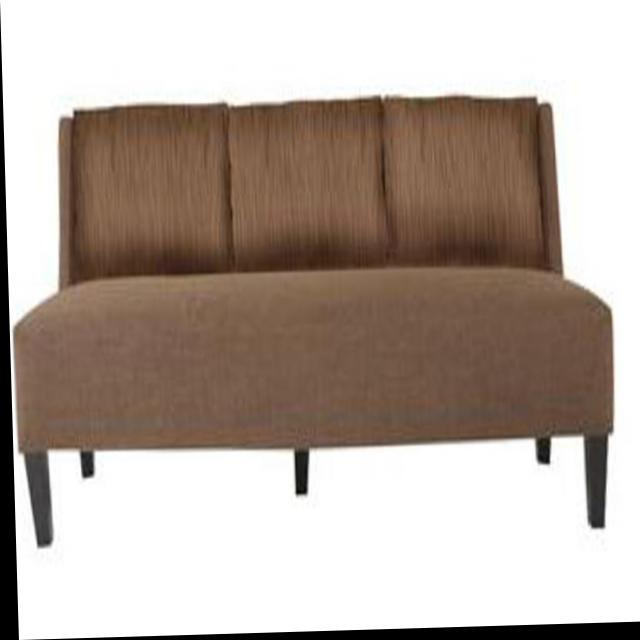Sofa: (5, 92, 611, 548)
